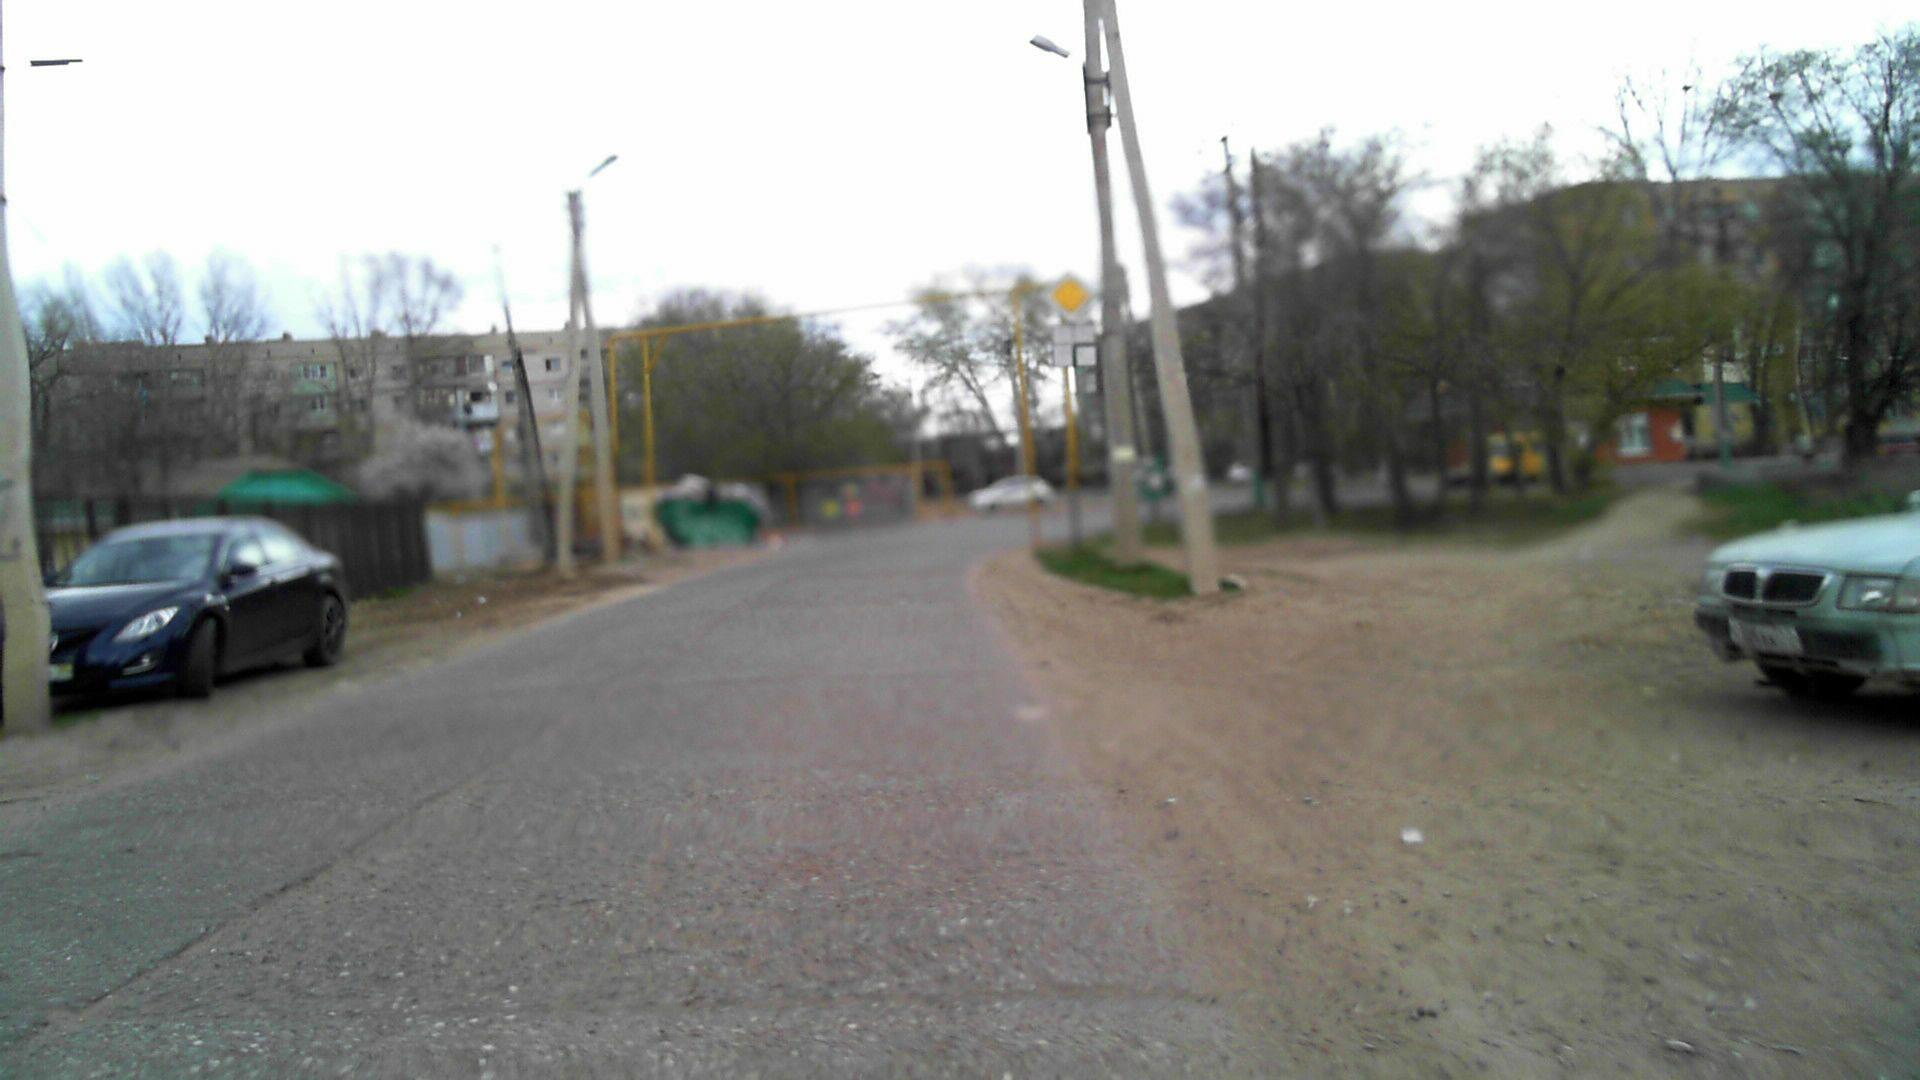2_1: (1048, 270, 1093, 318)
8_13: (1052, 323, 1096, 368)
